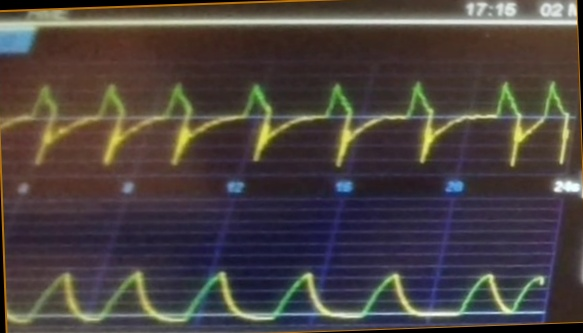Accumulation Flow: (1, 70, 570, 169)
Volume: (7, 252, 544, 324)
